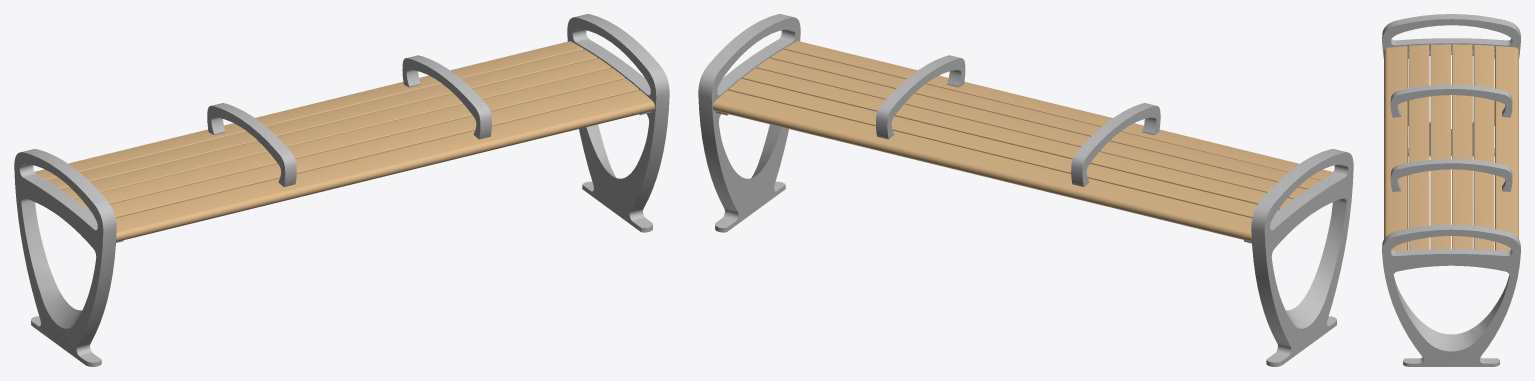
The picture shows the model from 3 angles, left to right: view 1: azimuth 30°, elevation 25°; view 2: azimuth 150°, elevation 25°; view 3: azimuth 270°, elevation 25°; orthographic projection. The views are drawn at different scales.
Visible parts, largest first — view 1: mesh13_mesh13-geometry, mesh23_mesh23-geometry, mesh20_mesh20-geometry, mesh27_mesh27-geometry, mesh1_mesh1-geometry, mesh16_mesh16-geometry, mesh39_mesh39-geometry; view 2: mesh20_mesh20-geometry, mesh16_mesh16-geometry, mesh13_mesh13-geometry, mesh27_mesh27-geometry, mesh1_mesh1-geometry, mesh23_mesh23-geometry, mesh39_mesh39-geometry; view 3: mesh1_mesh1-geometry, mesh20_mesh20-geometry, mesh13_mesh13-geometry, mesh16_mesh16-geometry, mesh23_mesh23-geometry, mesh39_mesh39-geometry, mesh27_mesh27-geometry.
Part boxes in pixels (x1,y1,x2,y2): mesh13_mesh13-geometry: (74,68,639,217); mesh23_mesh23-geometry: (115,90,654,241); mesh20_mesh20-geometry: (47,49,611,198); mesh27_mesh27-geometry: (14,149,116,366); mesh1_mesh1-geometry: (567,14,669,232); mesh16_mesh16-geometry: (35,41,583,180); mesh39_mesh39-geometry: (207,55,491,186); mesh20_mesh20-geometry: (728,68,1293,217); mesh16_mesh16-geometry: (713,90,1252,241); mesh13_mesh13-geometry: (756,49,1320,198); mesh27_mesh27-geometry: (1251,149,1353,366); mesh1_mesh1-geometry: (698,14,800,232); mesh23_mesh23-geometry: (784,41,1332,180); mesh39_mesh39-geometry: (876,55,1160,186); mesh1_mesh1-geometry: (1382,224,1520,366); mesh20_mesh20-geometry: (1452,44,1494,249); mesh13_mesh13-geometry: (1408,44,1450,249); mesh16_mesh16-geometry: (1495,46,1518,250); mesh23_mesh23-geometry: (1384,46,1407,250); mesh39_mesh39-geometry: (1390,84,1512,191); mesh27_mesh27-geometry: (1382,14,1520,156).
Bounding box in the file's own units: 0.9273 × 0.2767 × 0.252.
